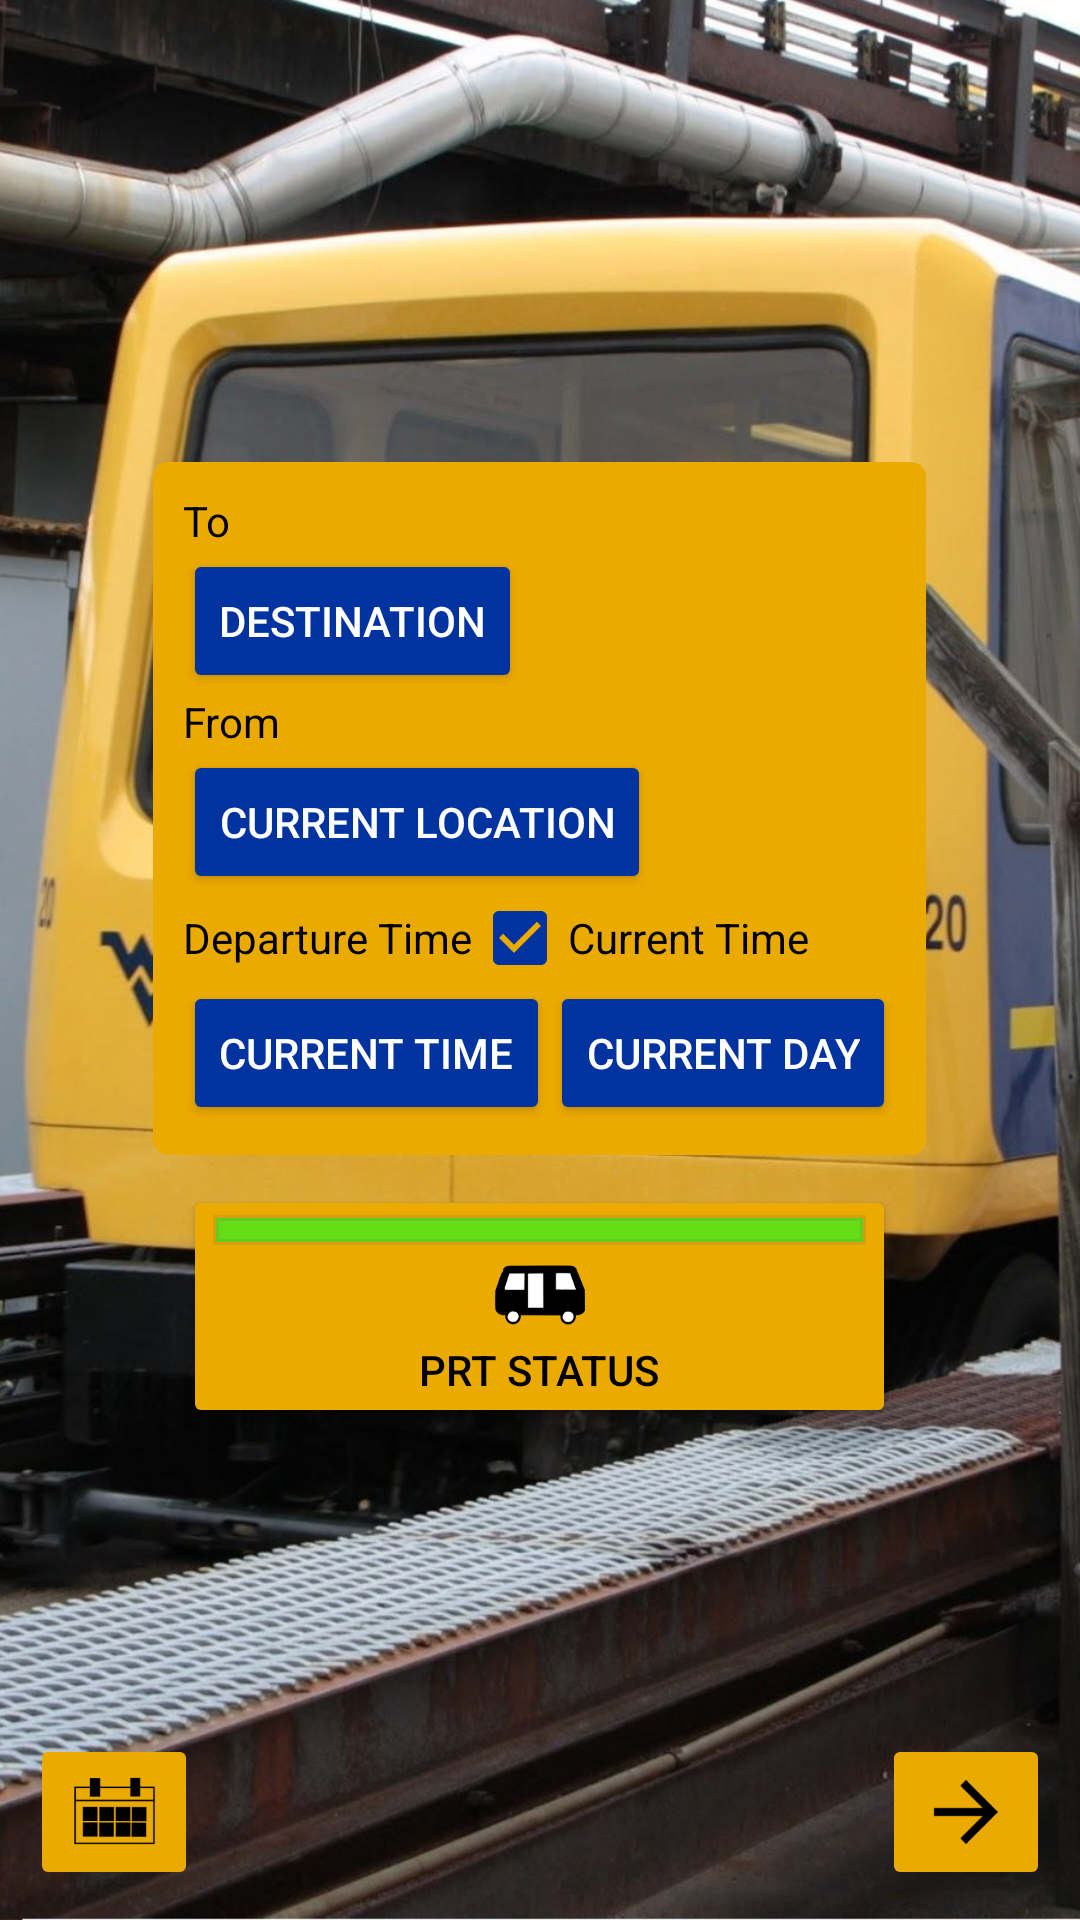

Icons on this 1080 × 1920 Android screen, each with the point to tap as point (x, y):
continue arrow: point (960, 1804)
schedule: point (114, 1803)
